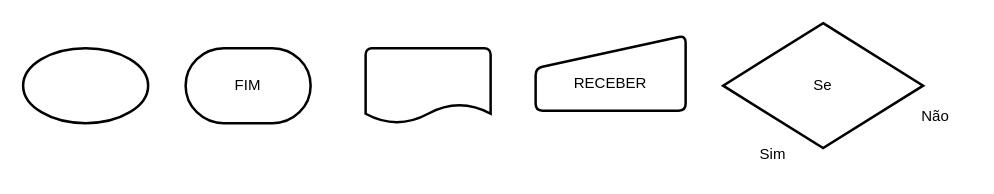
This 994x194 diagram has some shape labels left out. The centre of each missing label's shape, as x and y in pixels:
INÍCIO: the point at 85,85
MOSTRAR: the point at 427,85
